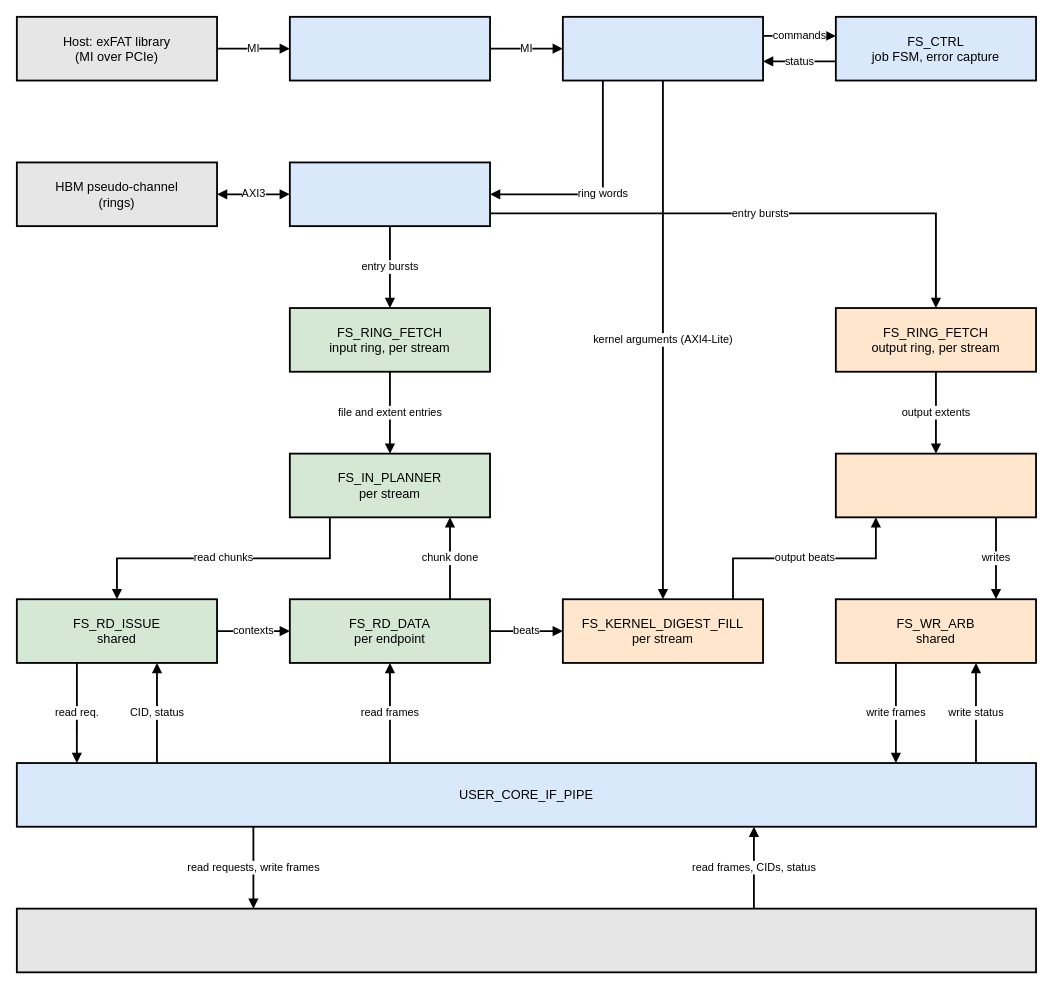
This 1052x988 diagram has some shape labels left out. The shapes that lost their labels are listed below. From the top down, each one's box as (x1, y1, x2, y2) in pixels, then its label:
(288, 15, 490, 81): MI_ASYNC MI_CLK to DMA_CLK
(561, 15, 763, 81): FS_REGS register file
(288, 161, 490, 227): FS_HBM_PORT AXI3 master
(834, 452, 1036, 518): FS_OUT_WRITER per stream
(15, 907, 1036, 973): DMA Iuventus (NVMe queues, one per drive)
